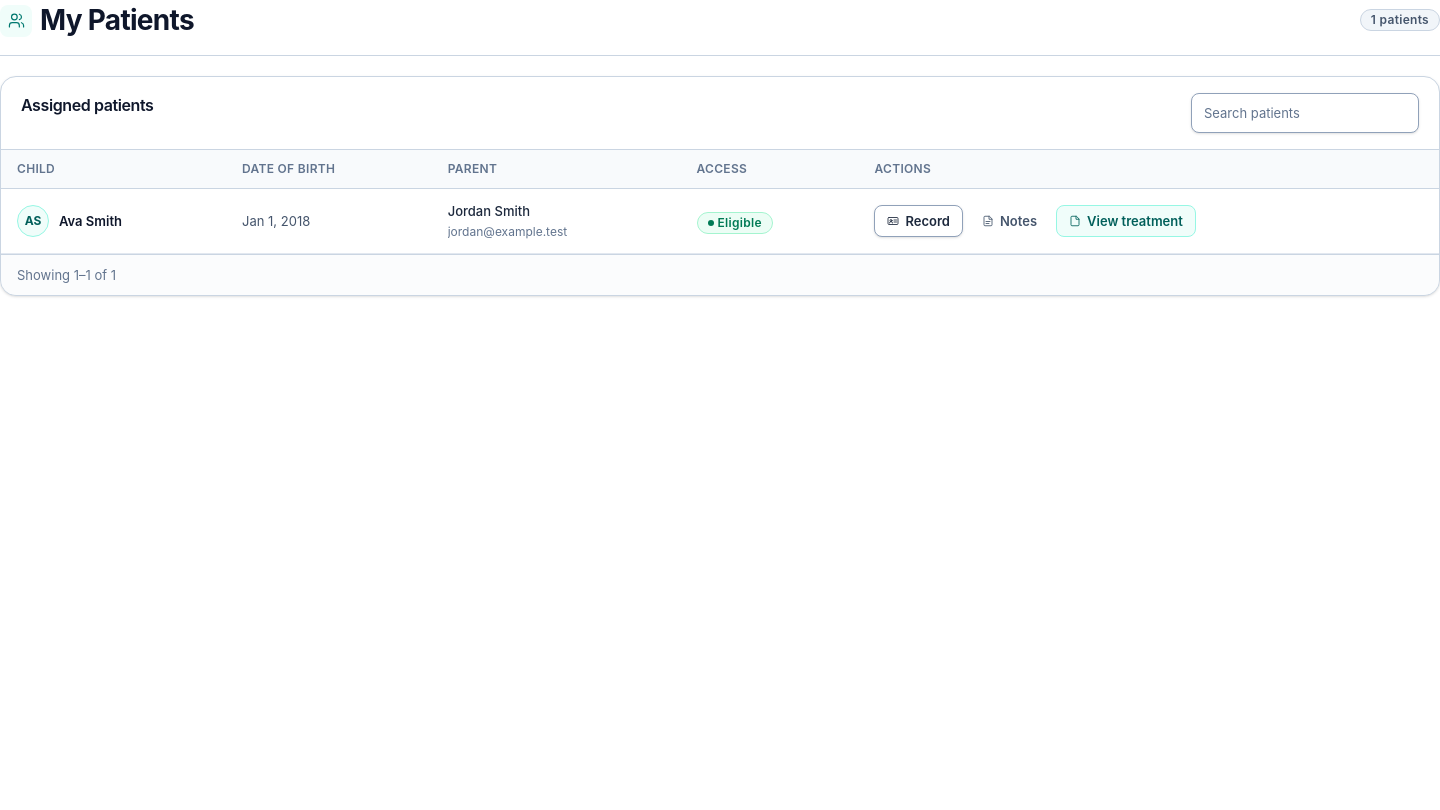
it: patients notes entry › opens the notes dialog from the patient row, not from the page header
Click the button "Notes" at (1010, 221), box [969,205,1050,237]
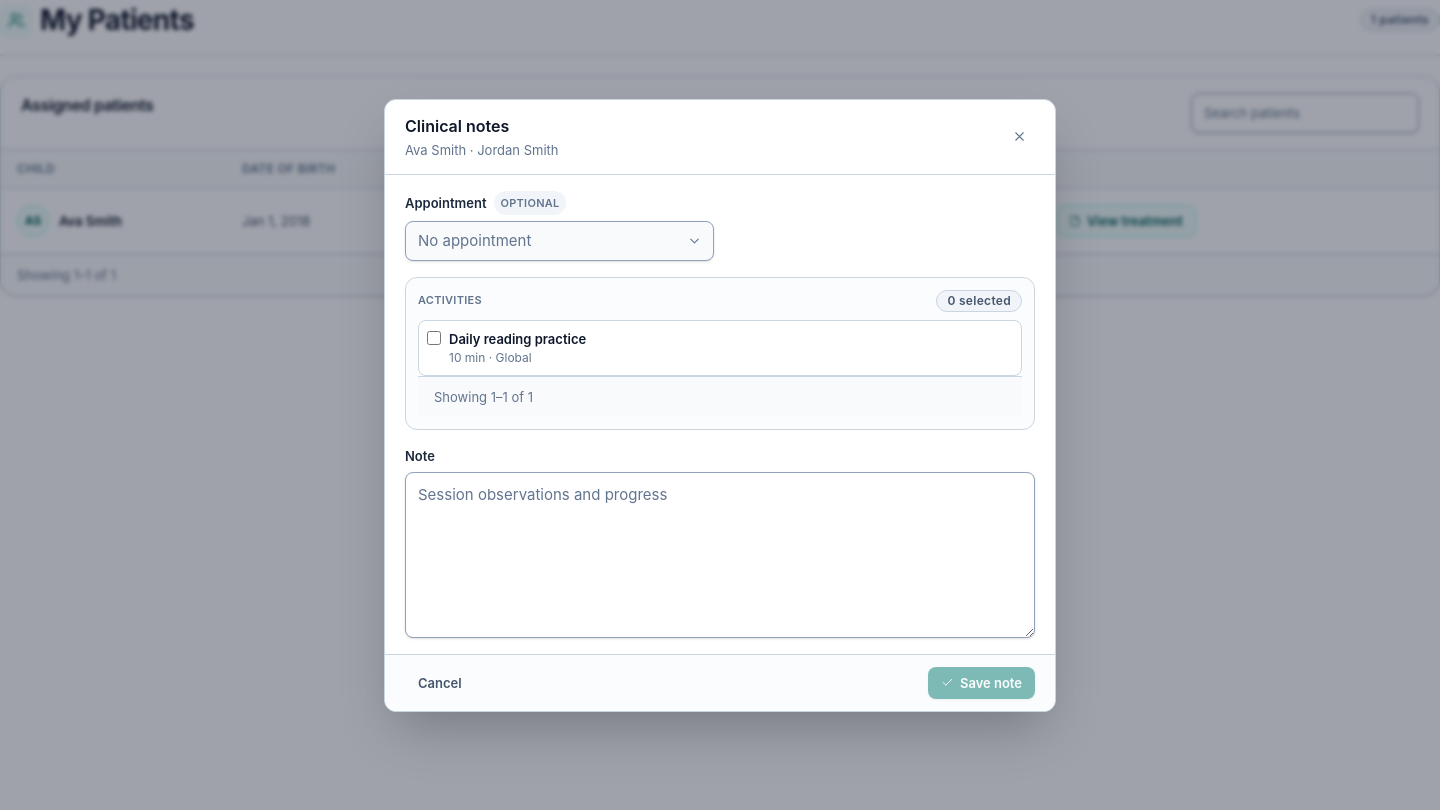
Expected: the text "Ava Smith" is shown, [59,211,122,231]
Expected: the dialog "Clinical notes" is shown, [384,98,1056,712]
Expected: the checkbox named "Select Daily reading practice" is shown, [427,330,441,344]
